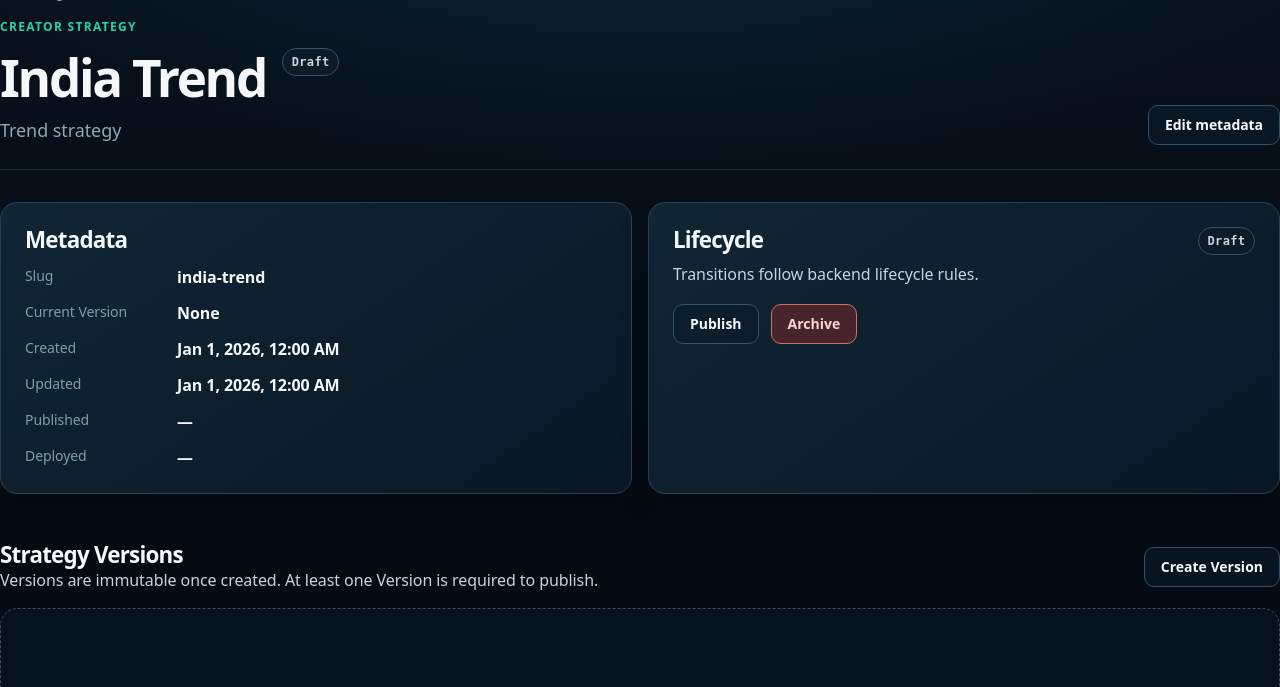
Test: Instrument search in VersionCreator › renders the instrument search input and selector
The image size is (1280, 687).
Click the button "Create Version" at (1212, 567), box [1144,547,1279,587]
(page scrolled)
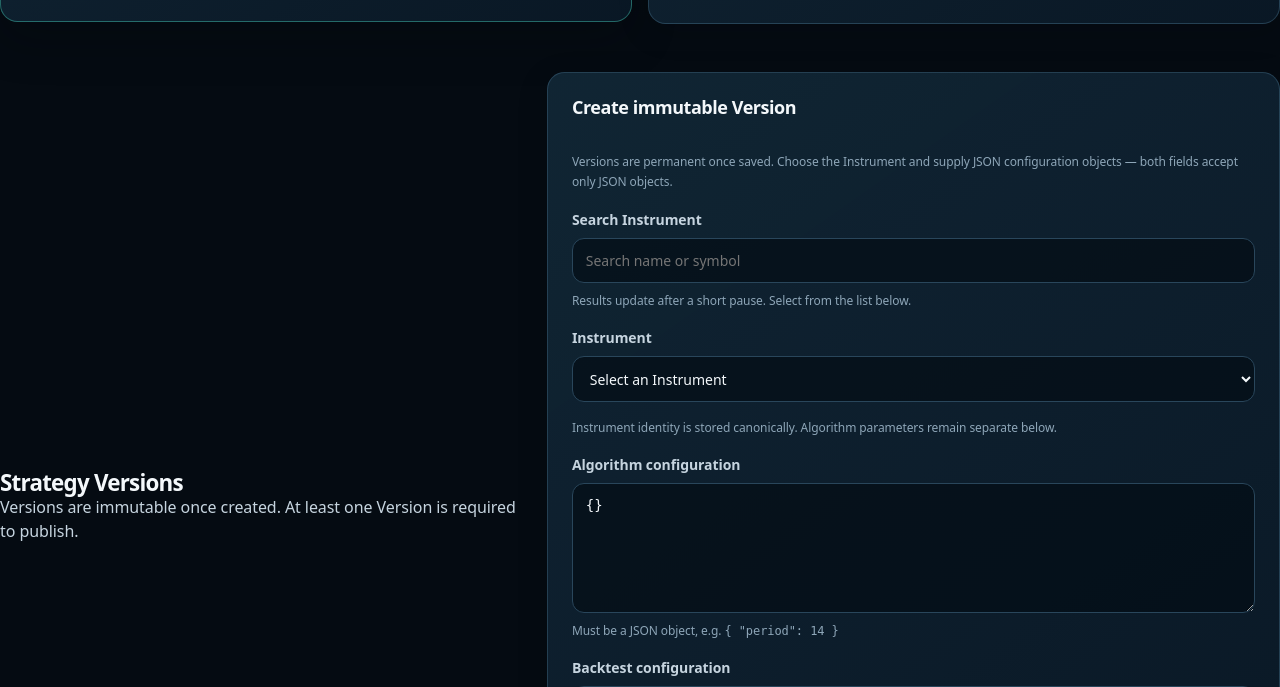
Expected: the search field labelled "Search Instrument" is shown, [572,238,1255,283]
Expected: the dropdown labelled "Instrument" is shown, [572,356,1255,402]
